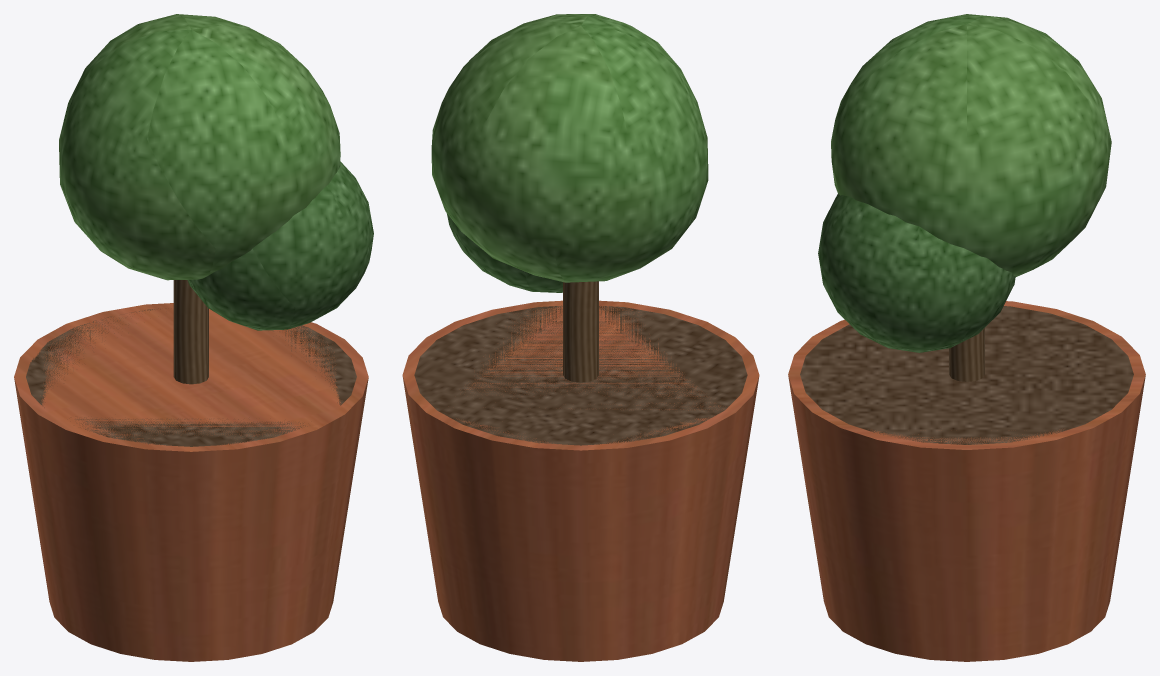
The model's file is planter.glb.
The picture shows the model from 3 angles, left to right: view 1: azimuth 30°, elevation 25°; view 2: azimuth 150°, elevation 25°; view 3: azimuth 270°, elevation 25°; orthographic projection.
Parts seen in each view (by area): view 1: pot.001, leaf1.001, leaf2.001, soil.002, stem.001; view 2: pot.001, leaf1.001, soil.002, stem.001, leaf2.001; view 3: pot.001, leaf1.001, soil.002, leaf2.001, stem.001.
Part boxes in pixels (x1,y1,x2,y2): pot.001: (14, 303, 368, 661); leaf1.001: (59, 14, 340, 280); leaf2.001: (187, 161, 373, 330); soil.002: (26, 308, 356, 446); stem.001: (173, 280, 208, 384); pot.001: (402, 300, 759, 661); leaf1.001: (431, 14, 708, 282); soil.002: (414, 305, 747, 445); stem.001: (563, 281, 598, 382); leaf2.001: (446, 213, 562, 292); pot.001: (788, 301, 1145, 661); leaf1.001: (831, 14, 1111, 276); soil.002: (800, 306, 1133, 444); leaf2.001: (818, 193, 1015, 352); stem.001: (949, 328, 984, 381).
Size of the model in its own units: 0.6 by 1.07 by 0.6.
Materials: 5 (5 with a texture image).
